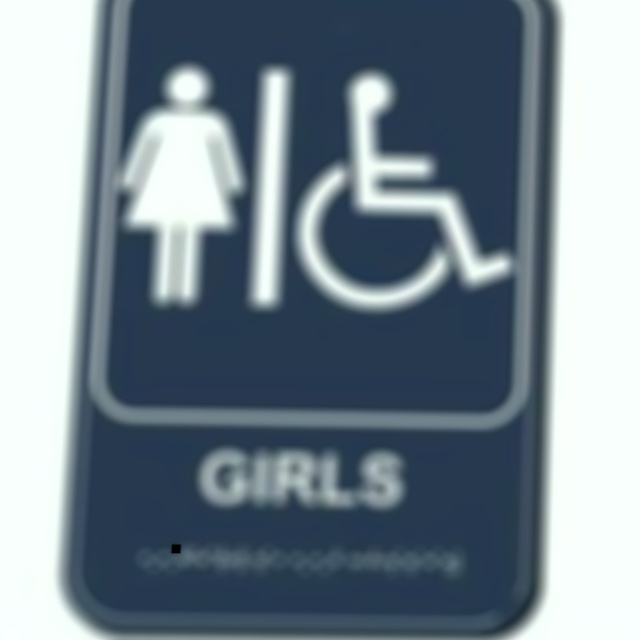ISA: (289, 67, 524, 320)
